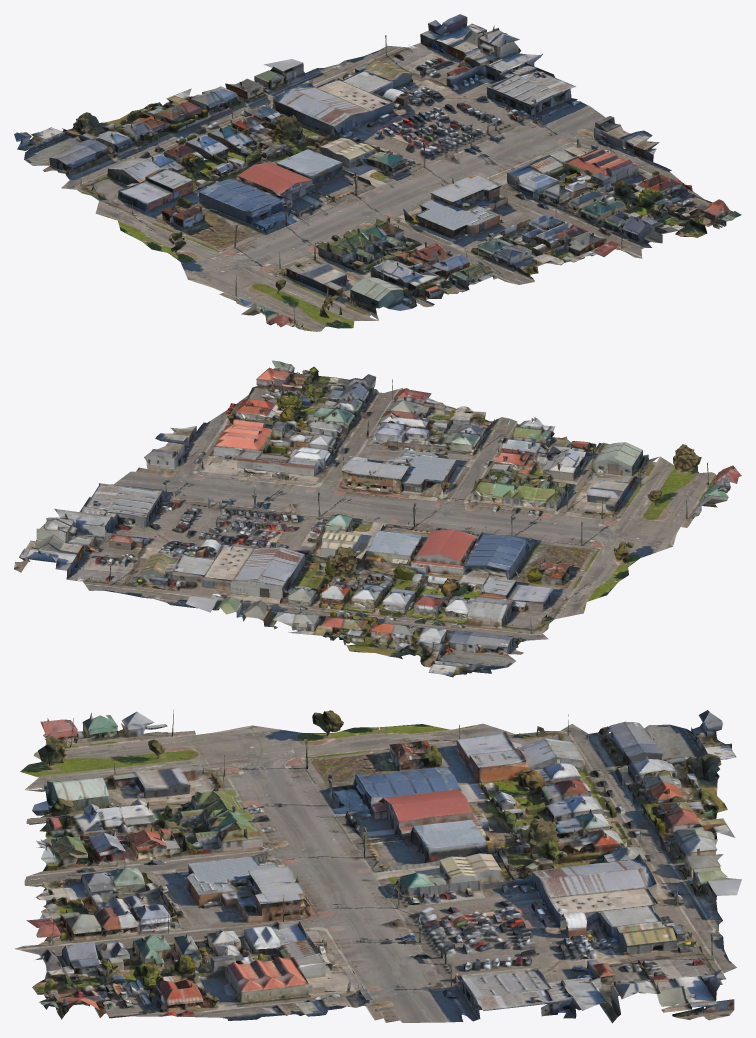
File: Tile_010_013_L18.gltf
The picture shows the model from 3 angles, top to bottom: view 1: azimuth 30°, elevation 25°; view 2: azimuth 150°, elevation 25°; view 3: azimuth 270°, elevation 25°; orthographic projection. The views are drawn at different scales.
Visible parts, largest first — view 1: Tile_+010_+013_L18; view 2: Tile_+010_+013_L18; view 3: Tile_+010_+013_L18.
Boxes of the visible parts, x1,y1,x2,y2 form: Tile_+010_+013_L18: [14, 14, 741, 331]; Tile_+010_+013_L18: [14, 360, 741, 677]; Tile_+010_+013_L18: [14, 709, 741, 1023].
Size of the model in its own units: 216 by 13.06 by 218.
1 material, 1 textured.
